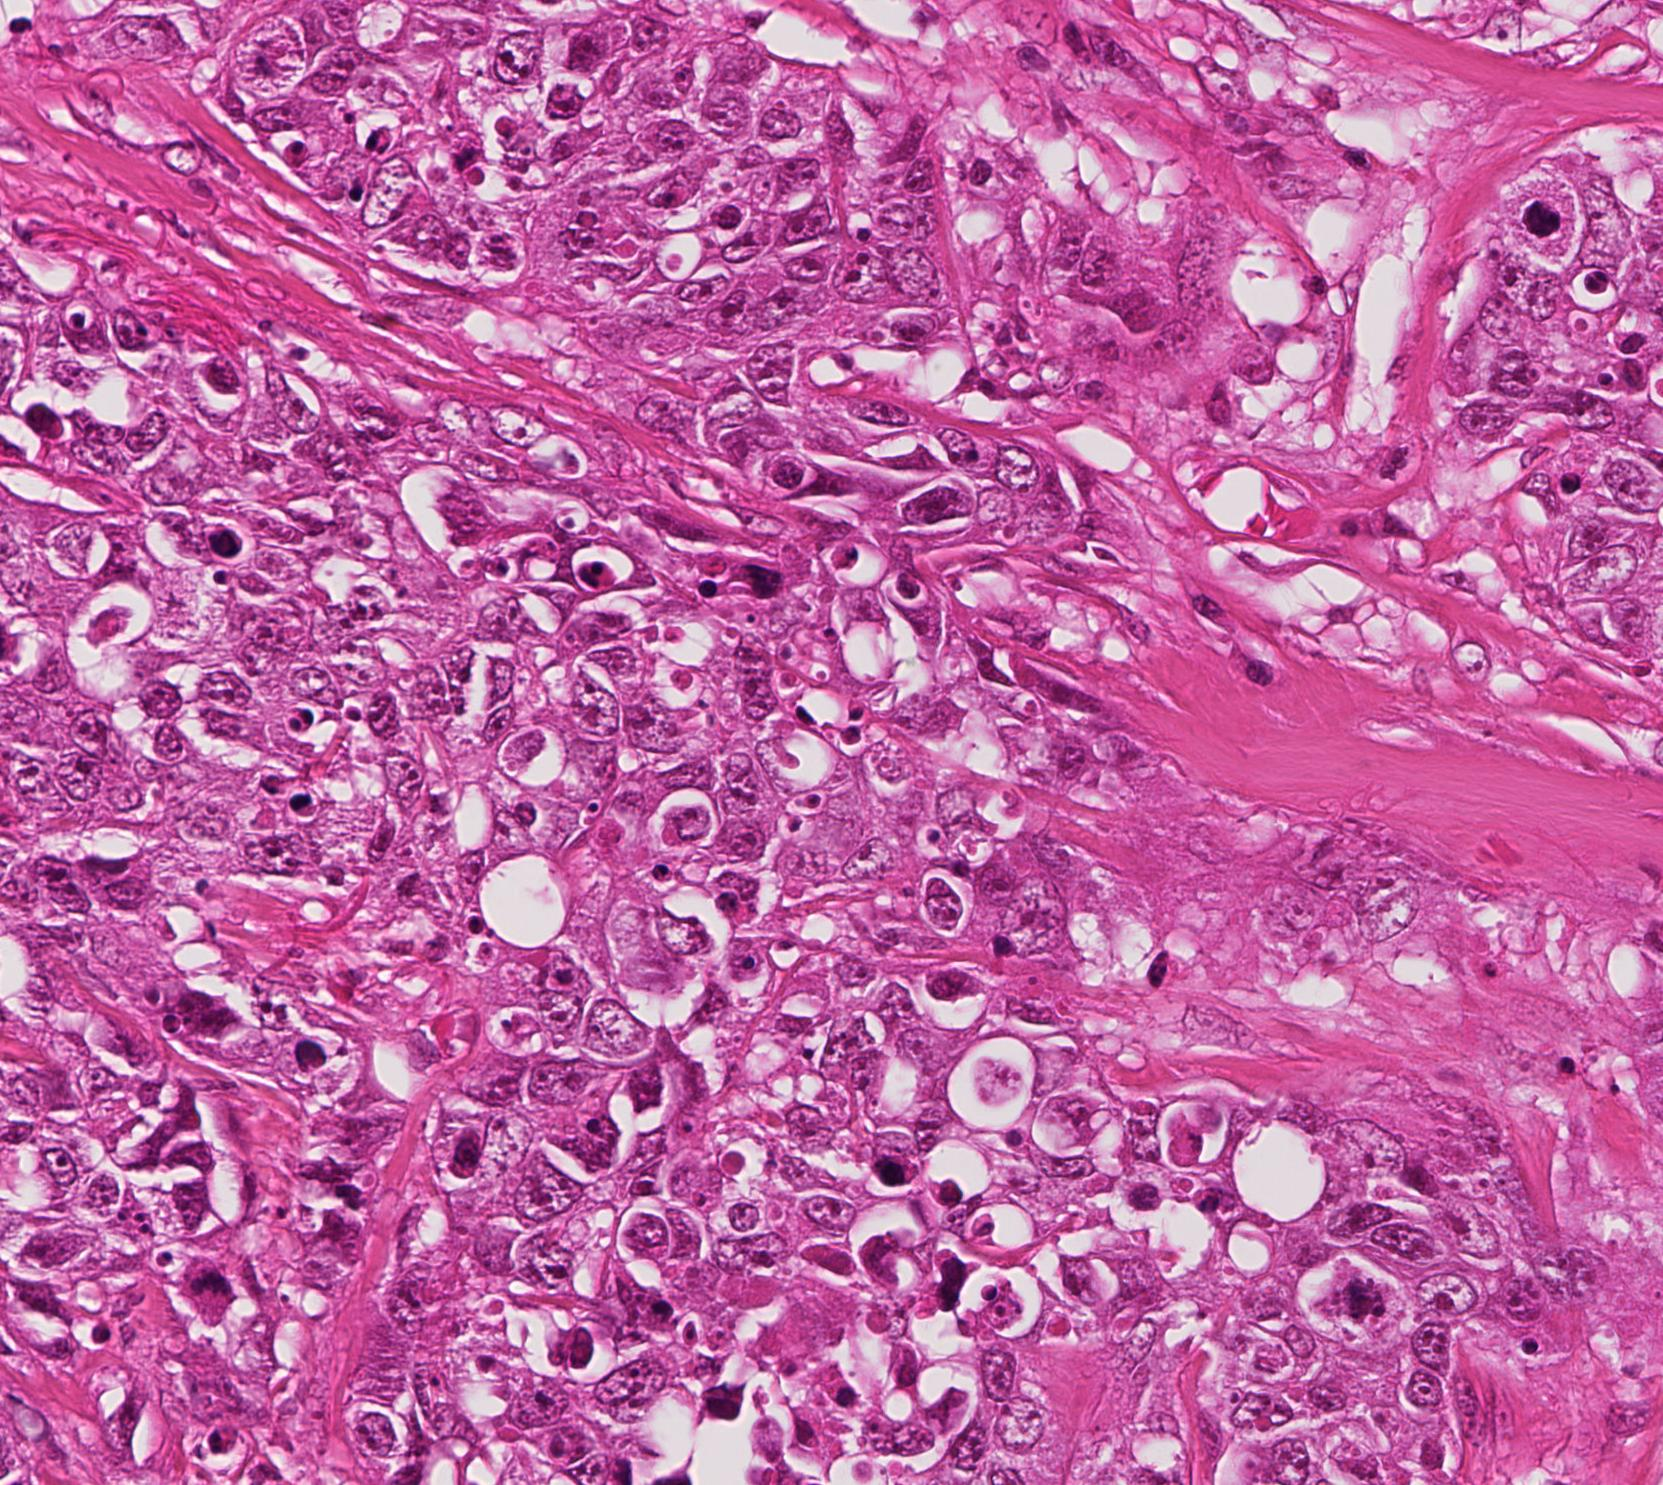mitosis: (1510, 188, 1570, 248), (1320, 1266, 1381, 1326), (178, 1259, 238, 1317)
